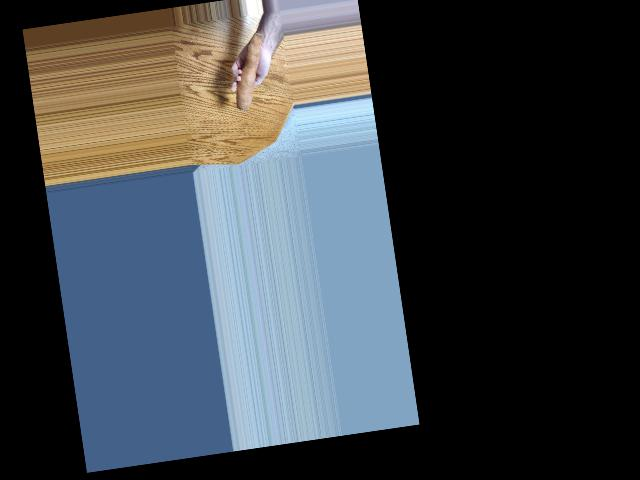sweet_potato: (225, 30, 274, 112)
